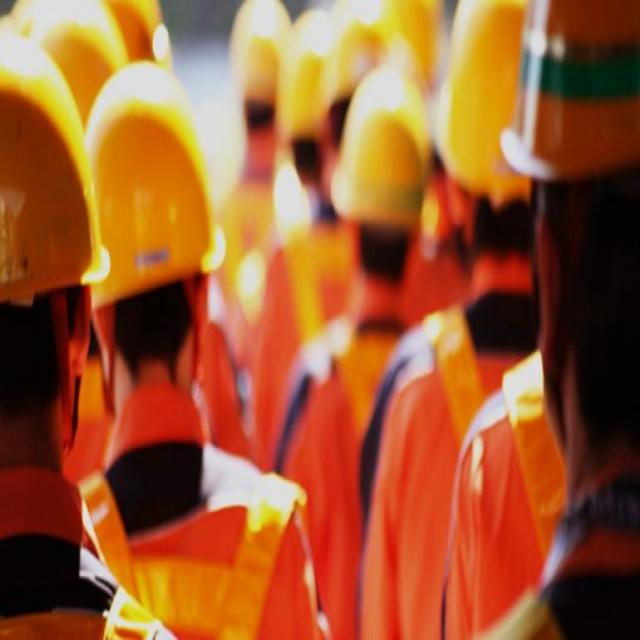Reflective-Jacket: (104, 465, 309, 640), (1, 574, 113, 640)
Safety-Helmet: (86, 57, 226, 312), (0, 25, 111, 310), (500, 2, 640, 194), (333, 61, 437, 232)
